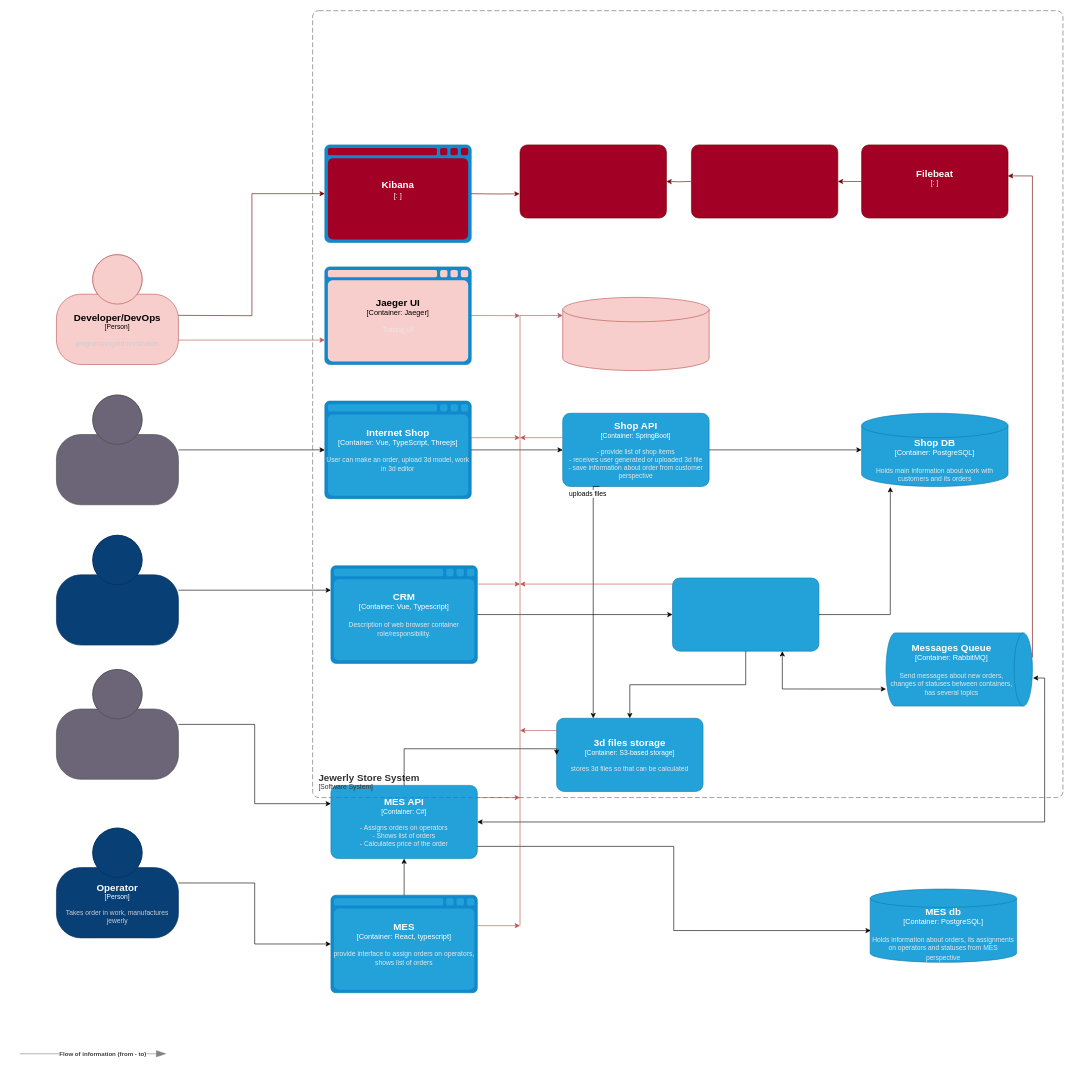
This 1074x1074 diagram has some shape labels left out. The shapes that lost their labels are listed below. From the top down, each one's box as (x1, y1, x2, y2) in pixels, then its label:
(519, 144, 666, 218): Elasticsearch [: ]
(691, 144, 838, 218): Logstash [: ]
(562, 297, 709, 371): Jaeger [Container: Jaeger] Tracing
(56, 394, 178, 505): Customer [Person] Description of external person.
(56, 535, 178, 645): Seller [Person] Operates with order, confirms manufacturing for the user
(672, 577, 819, 651): CRM API [Container: SpringBoot] Description of container role/responsibility.
(56, 669, 178, 779): API user [Person] Description of external person.
